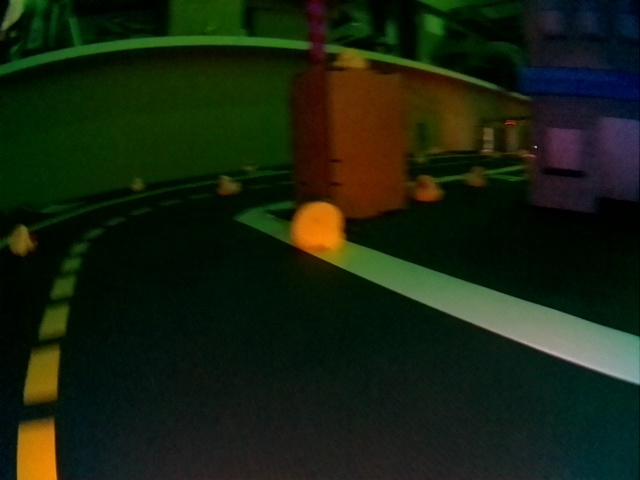Duckie: (292, 202, 342, 251), (413, 176, 442, 200), (10, 226, 33, 255), (337, 51, 367, 68), (218, 175, 239, 194), (467, 167, 486, 187), (132, 178, 142, 191)
